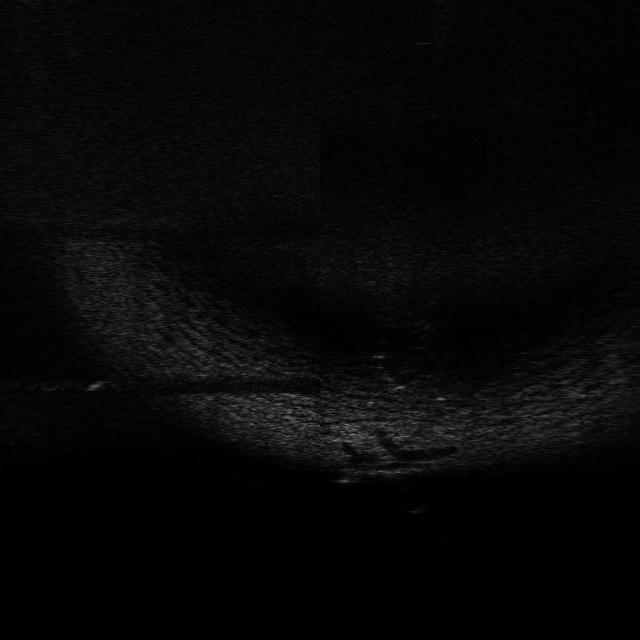plane: (334, 458, 414, 486)
